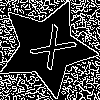X: (22, 23, 78, 79)
